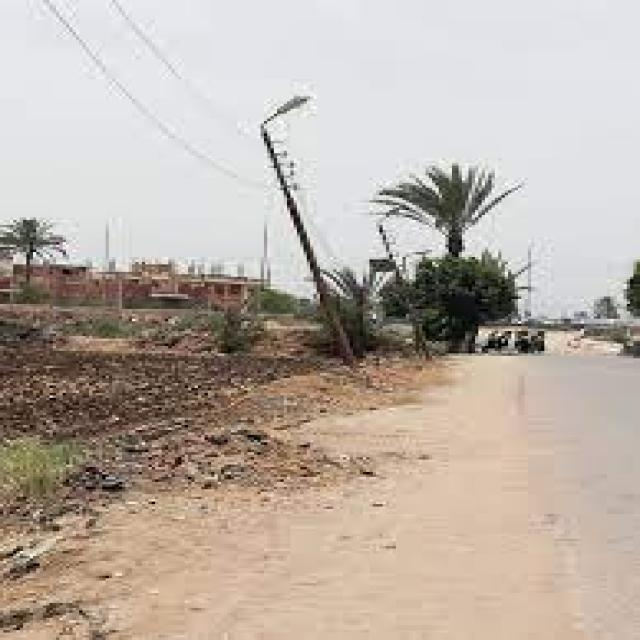Street Light: (257, 91, 360, 366)
